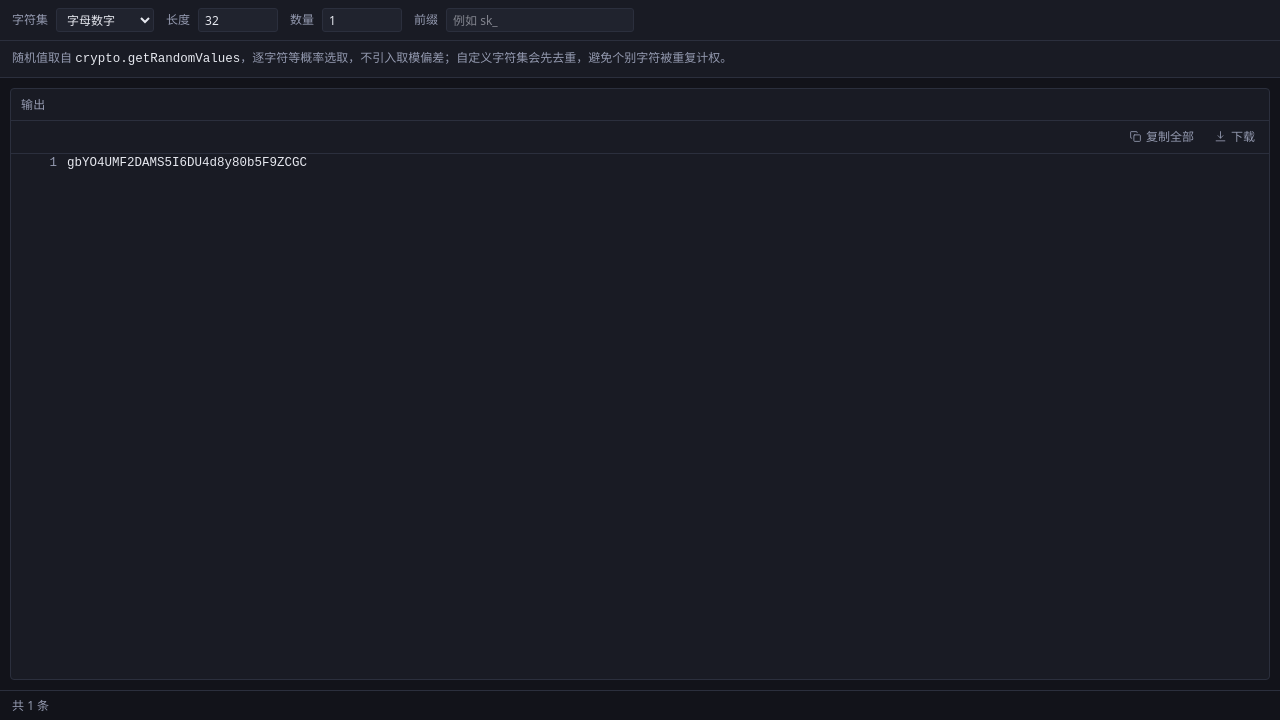
Test: Token 生成器 › 前缀 sk_ 会出现在每一行开头，且计入总数上限
This screenshot has width=1280, height=720.
Type "sk_" into the field labelled "前缀" at (540, 20), box [446,8,634,32]
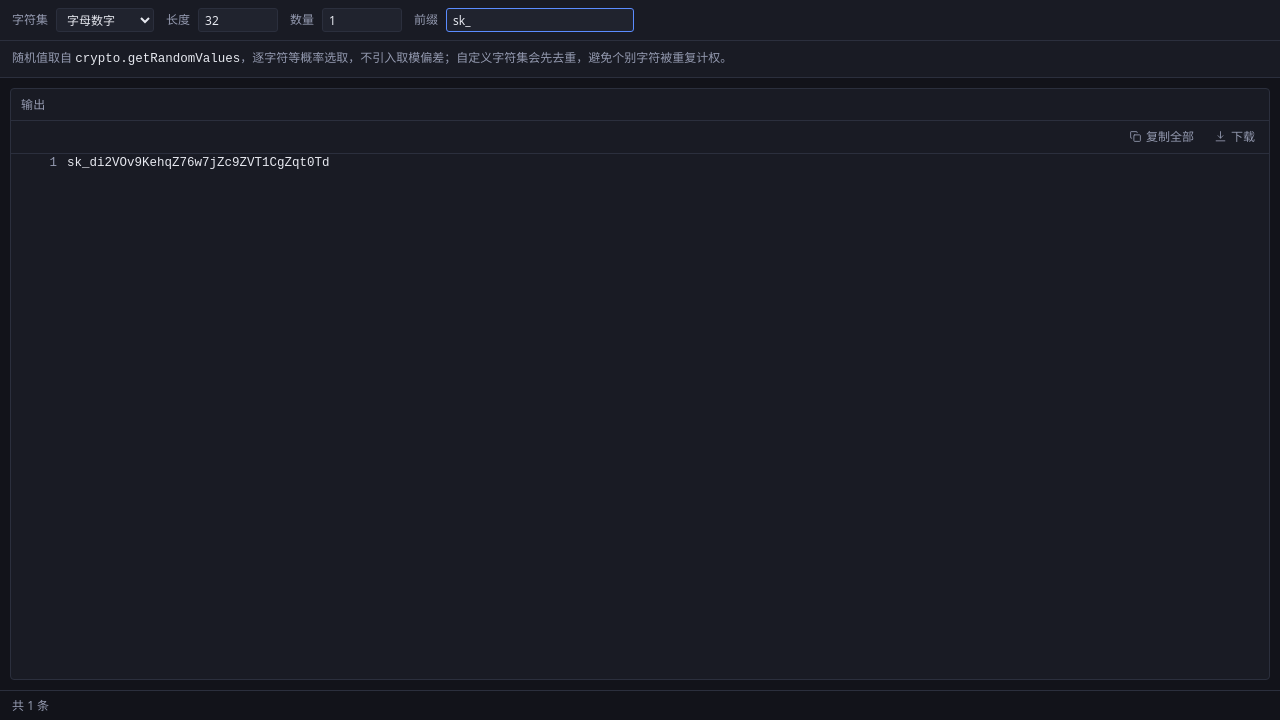
Replace the text in the number field labelled "数量" with "3" at (362, 20), box [322,8,402,32]
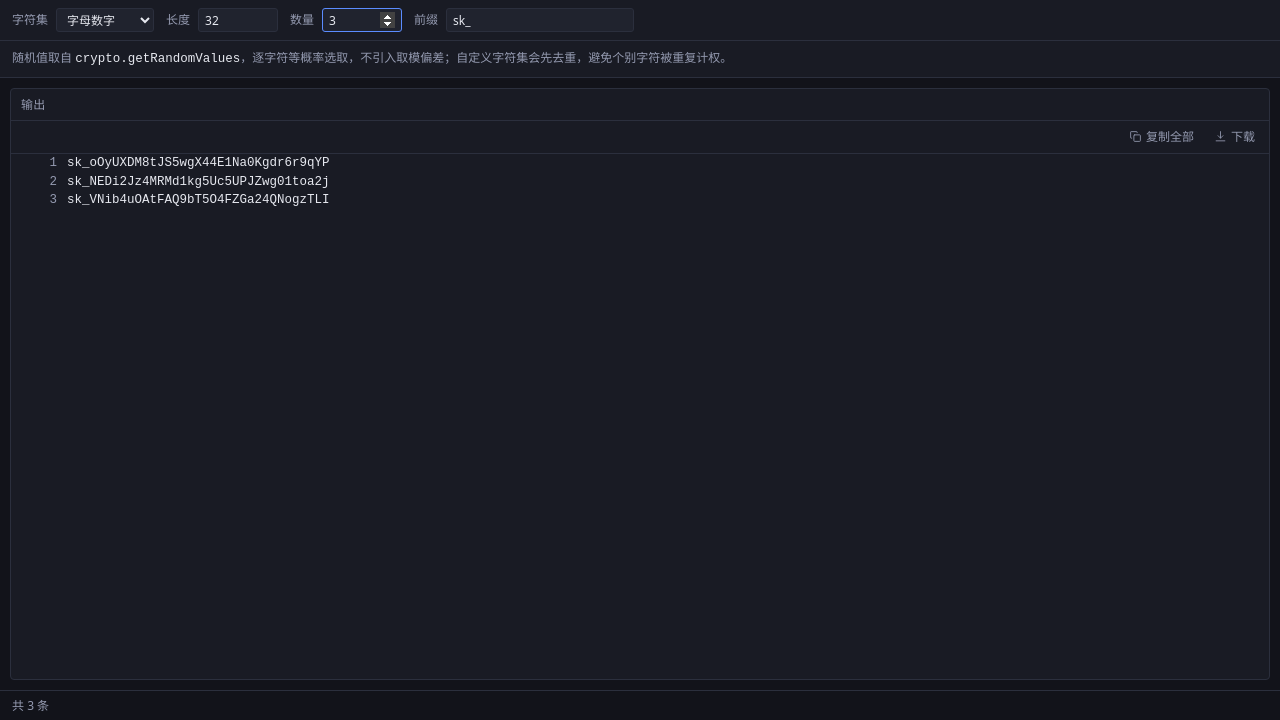
Replace the text in the number field labelled "长度" with "4000" at (238, 20), box [198,8,278,32]
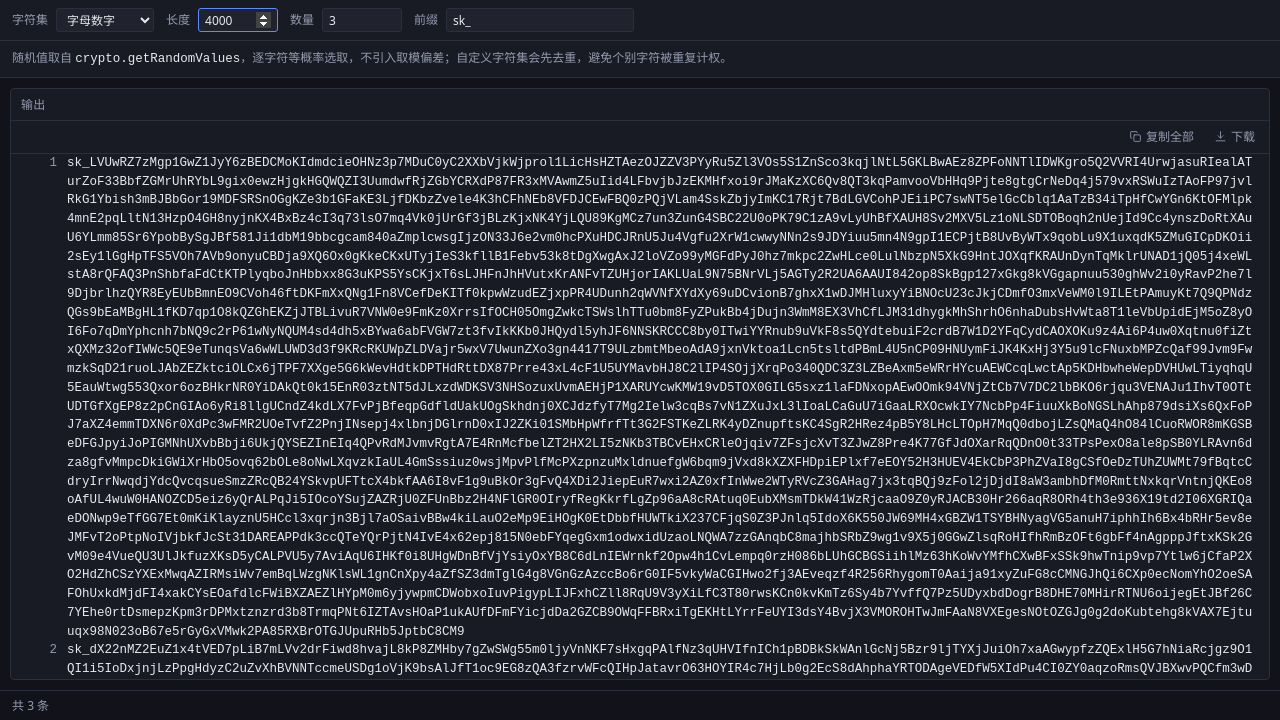
Replace the text in the number field labelled "数量" with "25" at (362, 20), box [322,8,402,32]
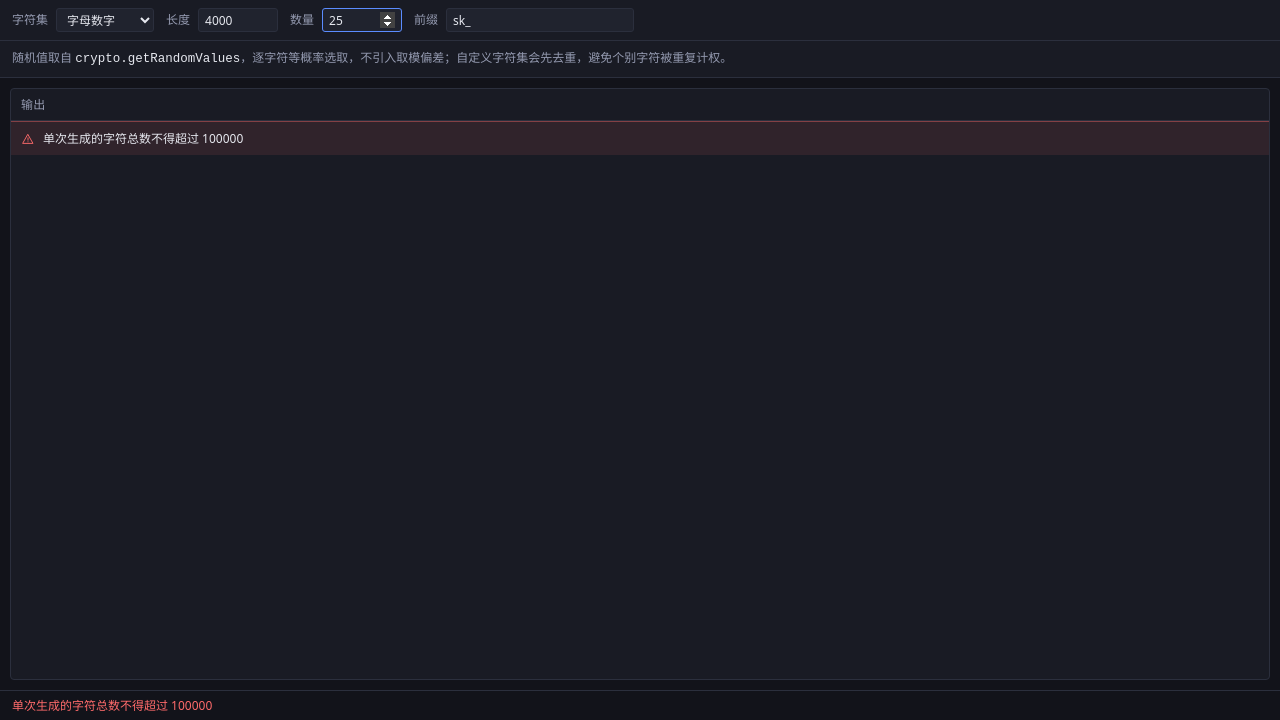
Result: the message reads "单次生成的字符总数不得超过 100000" at [43,130,243,147]
